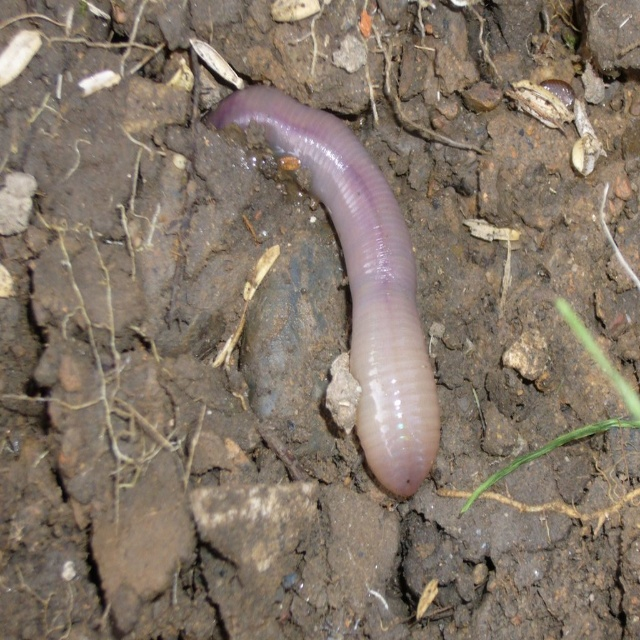Worm: (201, 85, 441, 498)
